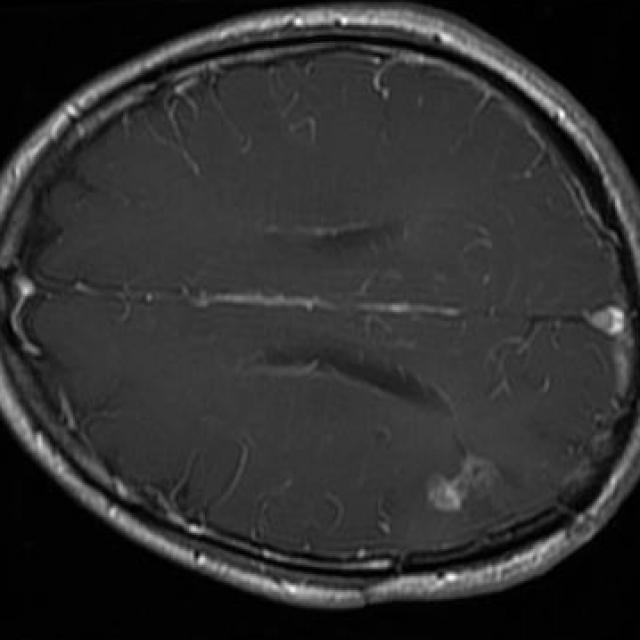glioma: (426, 455, 494, 512)
